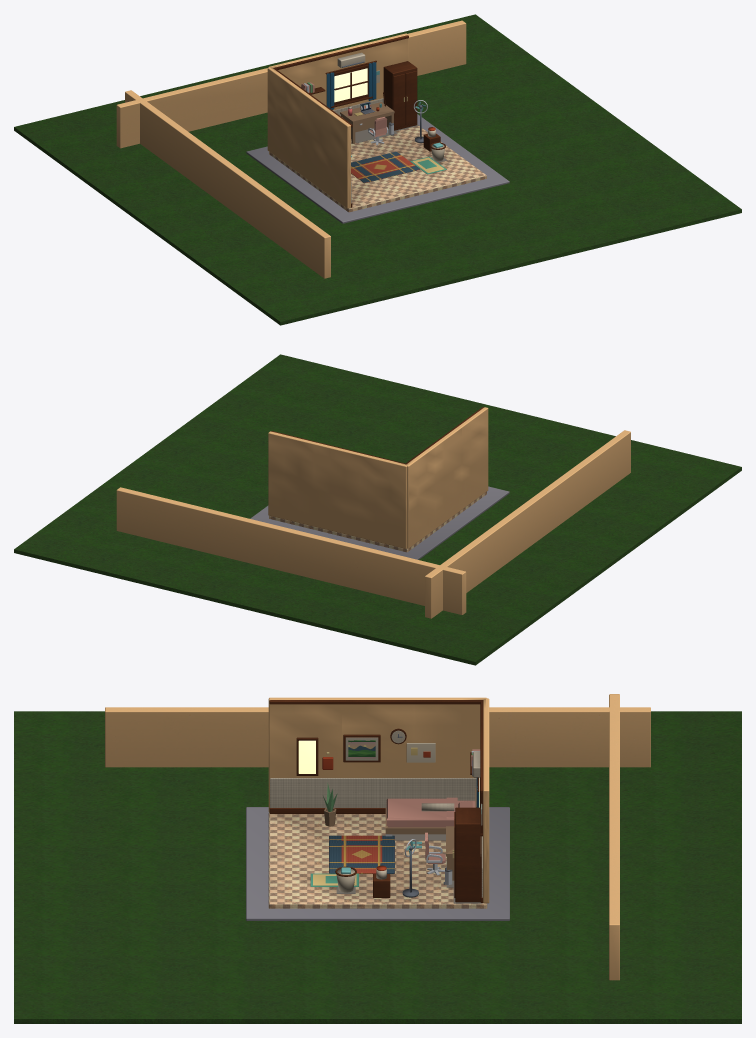
The model's file is kos_room.glb.
3 renders of one model, top to bottom at view 1: azimuth 30°, elevation 25°; view 2: azimuth 150°, elevation 25°; view 3: azimuth 270°, elevation 25°, orthographic. The views are drawn at different scales.
Visible parts, largest first — view 1: OuterYard, YardFenceLeft, YardFenceBack, WallLeft, FloorSlab, YardPatio, WallBack, CozyRug, WardrobeBody, desk(Clone), WinSky, WardDoor_2.13 (+2 smaller); view 2: OuterYard, YardFenceBack, WallBack, YardFenceLeft, WallLeft, YardPatio, FloorSlab; view 3: OuterYard, YardFenceLeft, WallLeft, FloorSlab, YardPatio, WainscotLeft, YardFenceBack, WardrobeBody, CozyRug, cover, WallBack, CrownLeft (+3 smaller).
Part boxes in pixels (x1,y1,x2,y2): OuterYard: [14, 14, 741, 325]; YardFenceLeft: [125, 90, 330, 278]; YardFenceBack: [116, 20, 466, 148]; WallLeft: [267, 67, 350, 208]; FloorSlab: [269, 126, 486, 212]; YardPatio: [246, 114, 509, 223]; WallBack: [268, 33, 408, 110]; CozyRug: [351, 151, 420, 183]; WardrobeBody: [383, 61, 417, 130]; desk(Clone): [340, 102, 394, 143]; WinSky: [334, 68, 367, 102]; WardDoor_2.13: [405, 71, 416, 125]; OuterYard: [14, 354, 741, 665]; YardFenceBack: [116, 487, 466, 614]; WallBack: [268, 431, 407, 548]; YardFenceLeft: [425, 430, 630, 618]; WallLeft: [406, 407, 488, 548]; YardPatio: [250, 486, 509, 559]; FloorSlab: [269, 492, 486, 552]; OuterYard: [14, 711, 741, 1023]; YardFenceLeft: [105, 707, 650, 767]; WallLeft: [268, 697, 486, 812]; FloorSlab: [268, 812, 487, 908]; YardPatio: [246, 807, 509, 920]; WainscotLeft: [270, 778, 476, 807]; YardFenceBack: [609, 694, 619, 980]; WardrobeBody: [455, 807, 480, 902]; CozyRug: [329, 835, 394, 873]; cover: [386, 797, 457, 826]; WallBack: [483, 698, 489, 903]; CrownLeft: [269, 700, 480, 704].
Bounding box in the file's own units: 16 × 3.05 × 16.
Materials: 40 (10 with a texture image).
